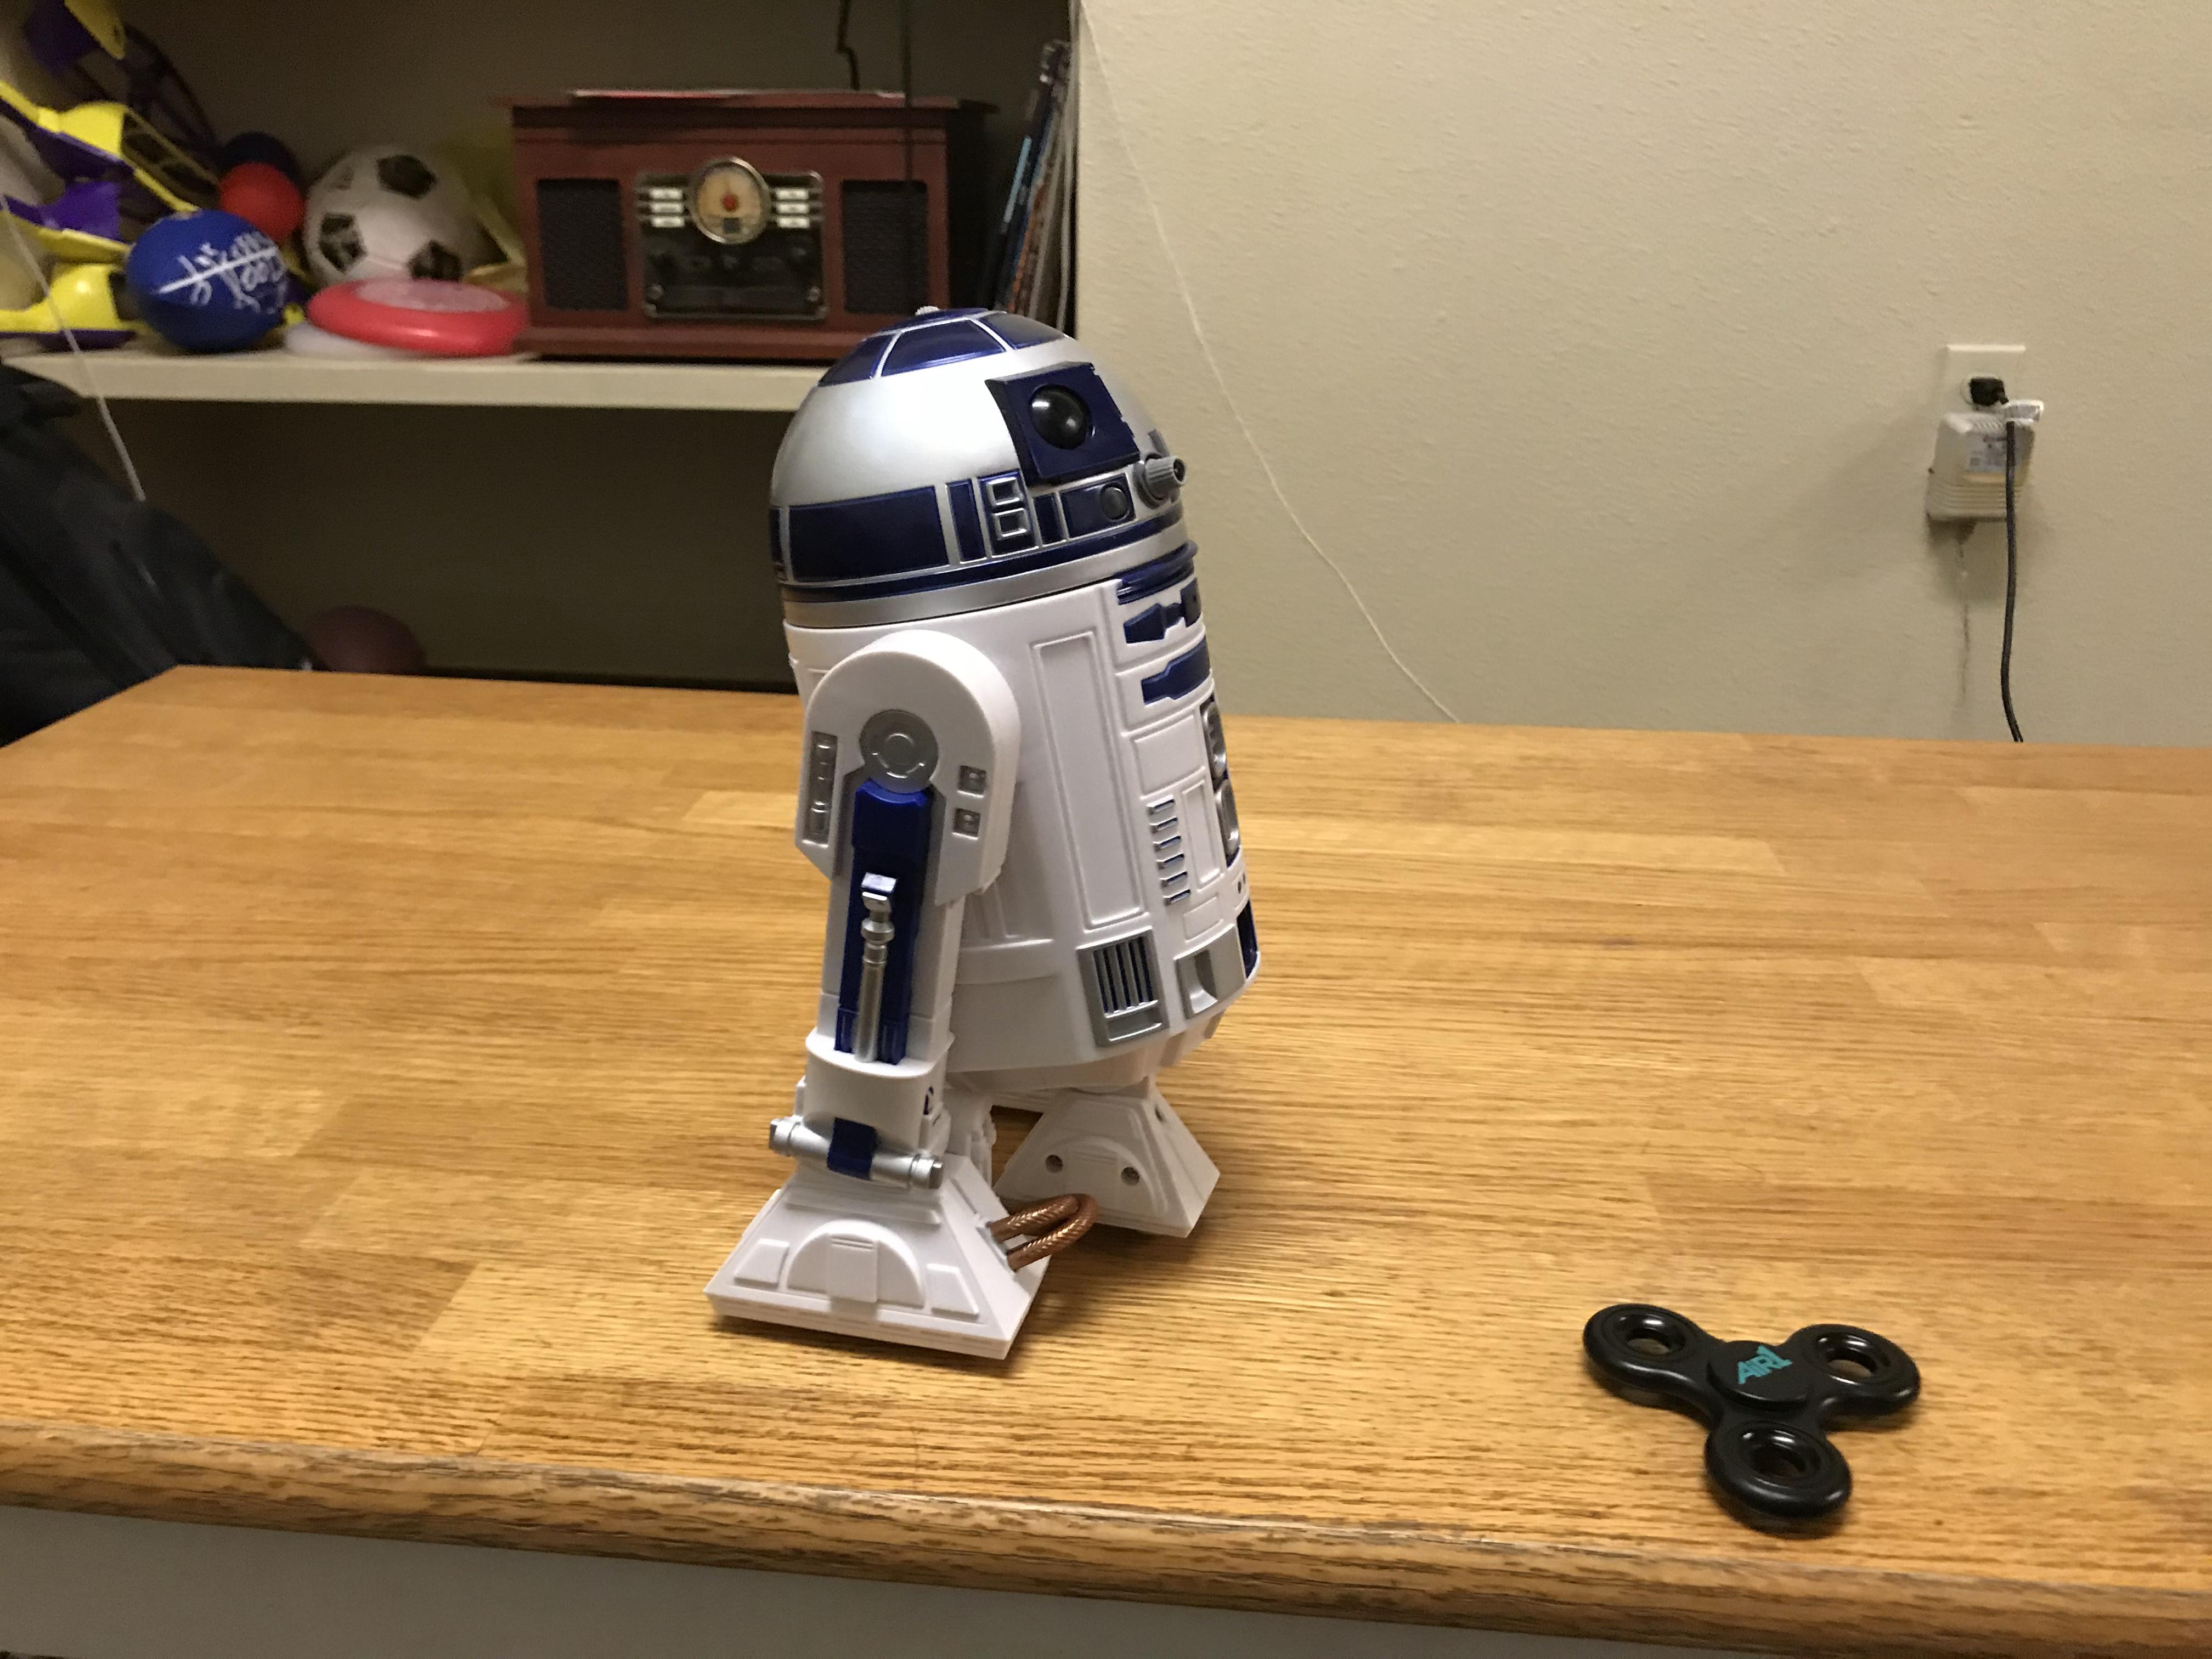r2d2: (704, 307, 1259, 1361)
